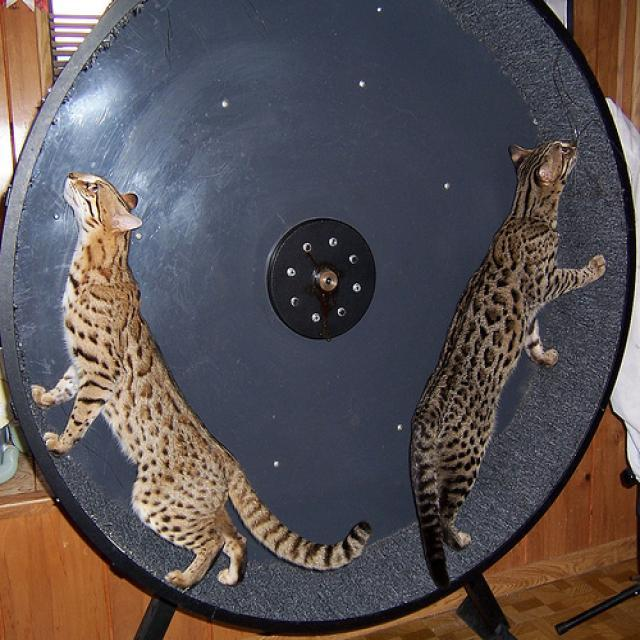Bengal: (61, 171, 141, 230), (507, 140, 576, 180)
